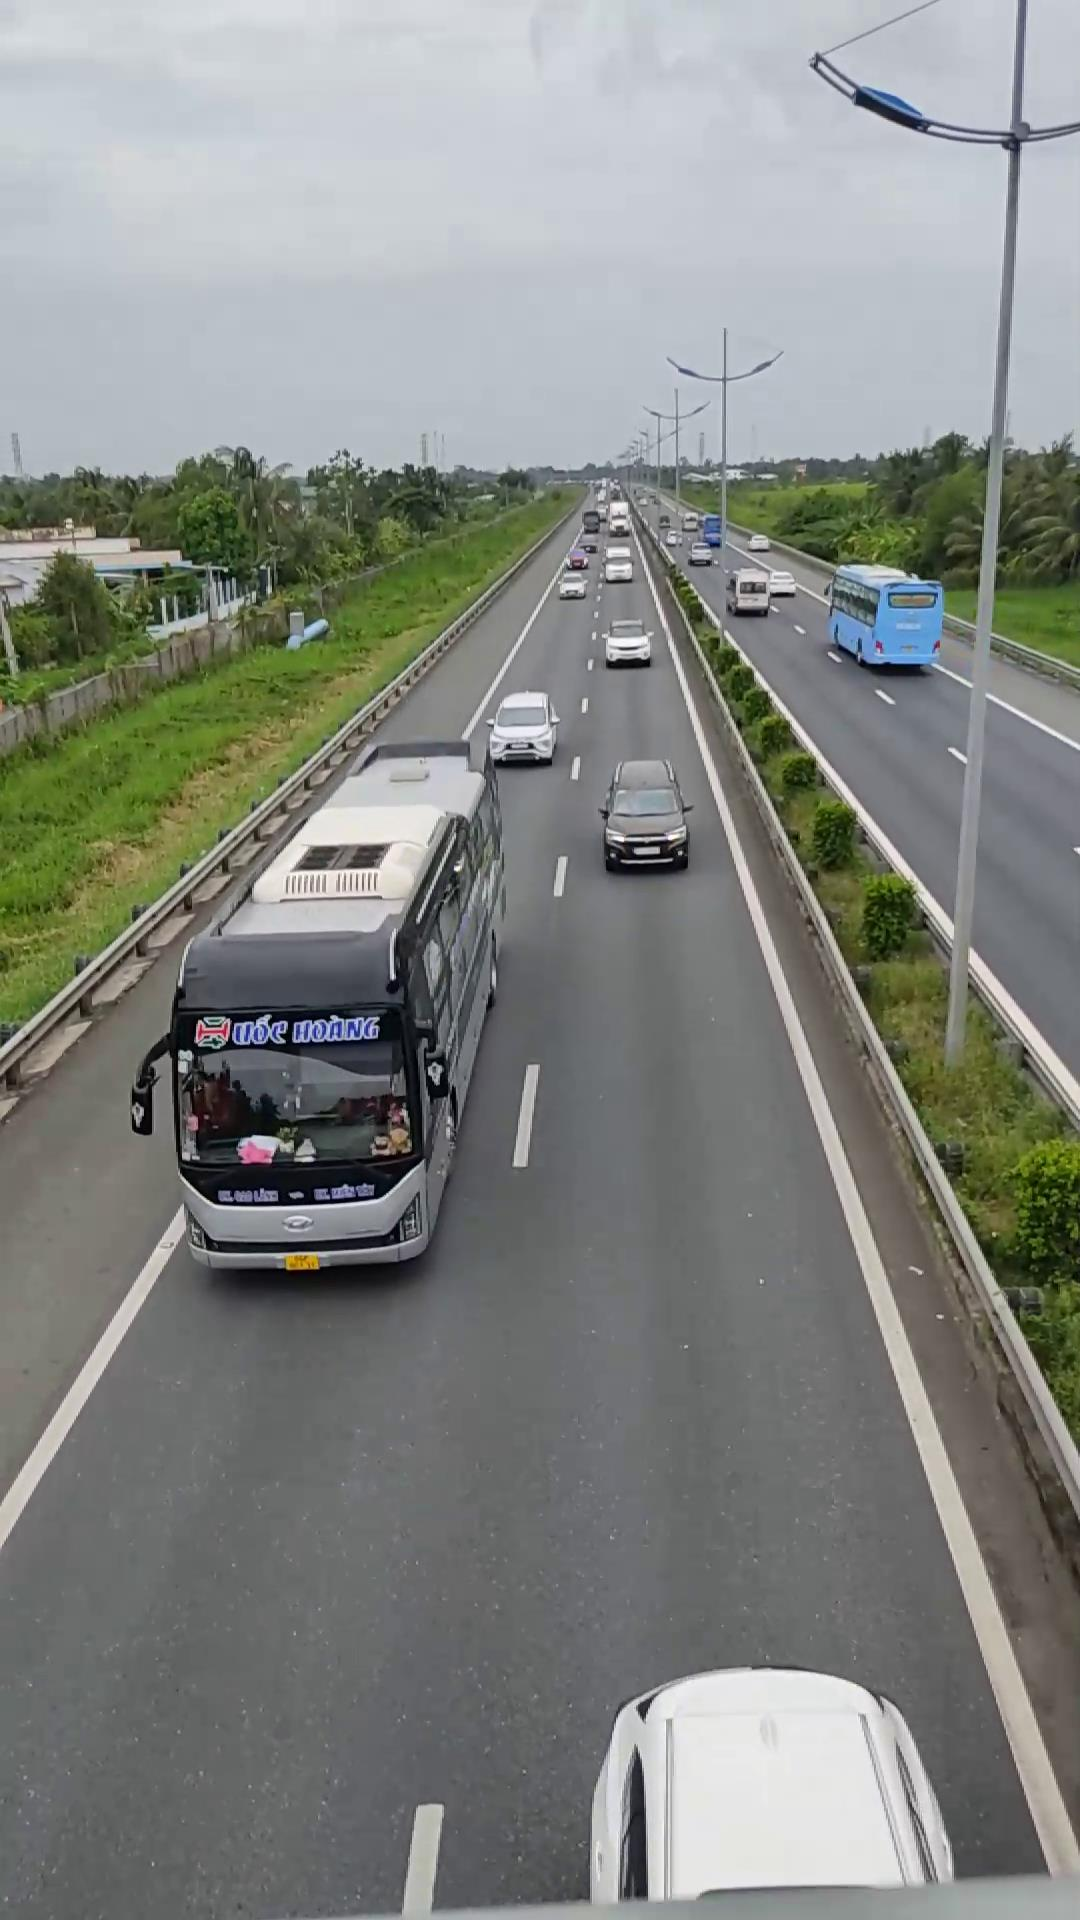bus: (142, 752, 510, 1273), (825, 560, 943, 670)
car: (578, 1664, 952, 1888), (597, 758, 692, 870), (476, 690, 560, 765)
